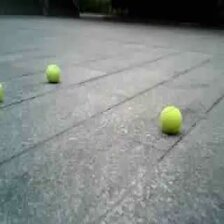tennis: (159, 107, 182, 135), (45, 64, 61, 82)
